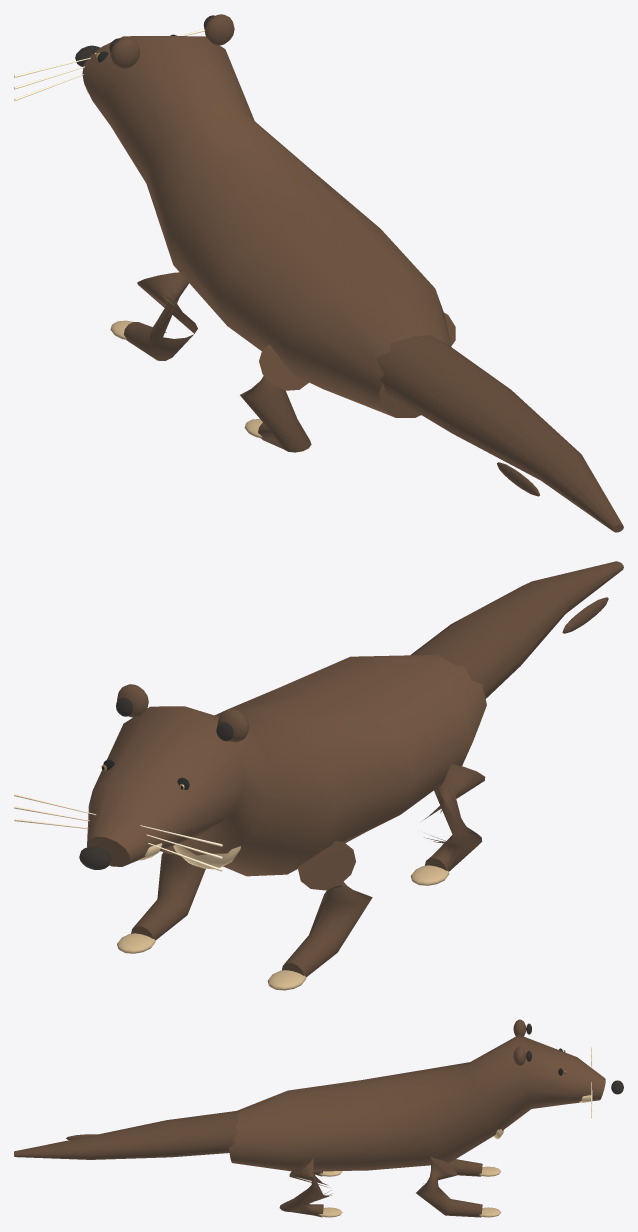
Rendered from otter_hero.glb.
3 renders of one model, top to bottom at view 1: azimuth 30°, elevation 25°; view 2: azimuth 150°, elevation 25°; view 3: azimuth 270°, elevation 25°, orthographic. The views are drawn at different scales.
Parts seen in each view (by area): view 1: OtterOrganicBody, Tail, Leg_LH, Leg_LF, RoundEar, RoundEar2; view 2: OtterOrganicBody, Tail, Leg_LF, Leg_RF, Leg_LH, CreamThroat, RoundEar, RoundEar2, Paw_LH, Paw_LF, Paw_RF, TailWebDetail_L (+1 smaller); view 3: OtterOrganicBody, Tail, Leg_RF, Leg_RH, Leg_LF.
Part boxes in pixels (x1,y1,x2,y2): OtterOrganicBody: (82, 36, 451, 417); Tail: (376, 335, 623, 532); Leg_LH: (240, 344, 311, 452); Leg_LF: (123, 272, 197, 360); RoundEar: (110, 37, 140, 68); RoundEar2: (204, 14, 234, 45); OtterOrganicBody: (87, 655, 486, 876); Tail: (410, 561, 623, 698); Leg_LF: (281, 841, 372, 977); Leg_RF: (131, 846, 205, 940); Leg_LH: (421, 764, 485, 871); CreamThroat: (173, 845, 240, 869); RoundEar: (217, 709, 249, 742); RoundEar2: (117, 684, 148, 717); Paw_LH: (410, 865, 449, 885); Paw_LF: (267, 970, 306, 990); Paw_RF: (117, 933, 155, 953); TailWebDetail_L: (562, 597, 608, 633); OtterOrganicBody: (228, 1035, 605, 1171); Tail: (14, 1110, 238, 1159); Leg_RF: (416, 1156, 482, 1217); Leg_RH: (279, 1157, 331, 1217); Leg_LF: (448, 1159, 482, 1176).
Bounding box in the file's own units: 1.14 × 1.54 × 5.23.
